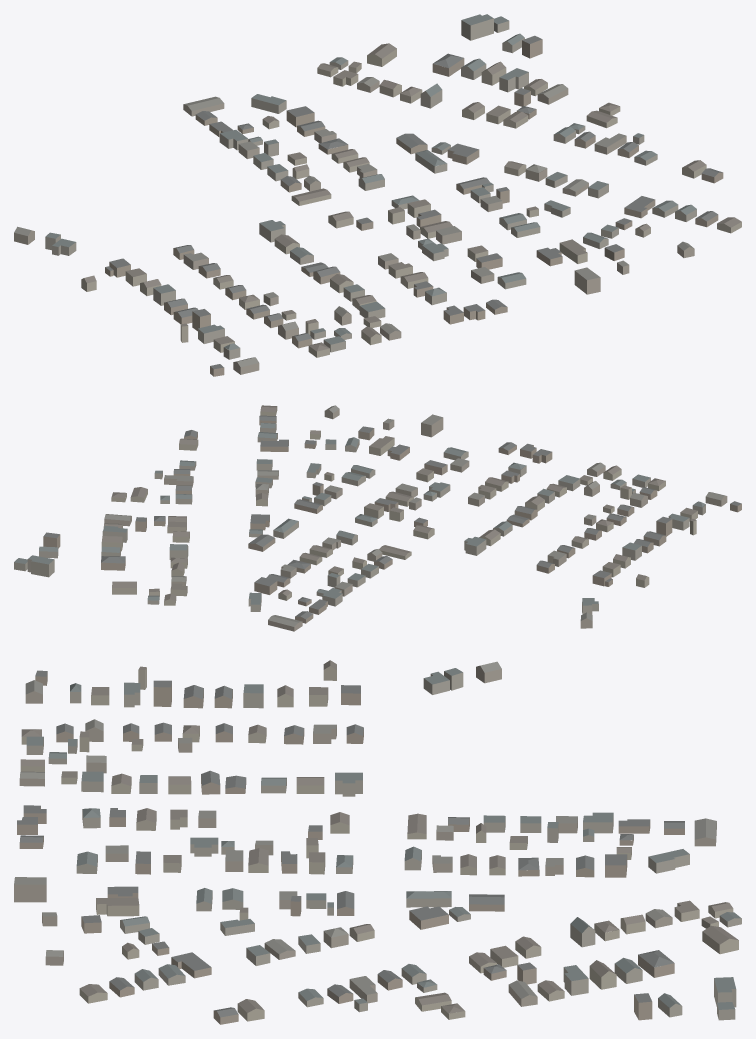
The model's file is 4e2b7866cad4-chunk-1202_11841.glb.
The picture shows the model from 3 angles, top to bottom: view 1: azimuth 30°, elevation 25°; view 2: azimuth 150°, elevation 25°; view 3: azimuth 270°, elevation 25°; orthographic projection. The views are drawn at different scales.
Visible parts, largest first — view 1: building_113723; view 2: building_113723, building_124434, building_133669; view 3: building_124434, building_60444, building_79439, building_120376, building_52727, building_110198, building_115888, building_57174, building_60326, building_57318, building_164411, building_133669 (+2 smaller).
Part boxes in pixels (<box>): building_113723: <box>461,14,493,40</box>; building_113723: <box>27,555,54,577</box>; building_124434: <box>421,414,443,437</box>; building_133669: <box>268,615,302,631</box>; building_124434: <box>14,877,46,902</box>; building_60444: <box>96,897,139,916</box>; building_79439: <box>406,891,451,907</box>; building_120376: <box>638,950,674,977</box>; building_52727: <box>648,849,689,873</box>; building_110198: <box>702,925,738,954</box>; building_115888: <box>409,906,448,929</box>; building_57174: <box>171,952,211,978</box>; building_60326: <box>335,772,362,796</box>; building_57318: <box>563,965,588,995</box>; building_164411: <box>469,894,504,911</box>; building_133669: <box>694,818,716,846</box>.
Size of the model in its own units: 389 by 10.18 by 340.
